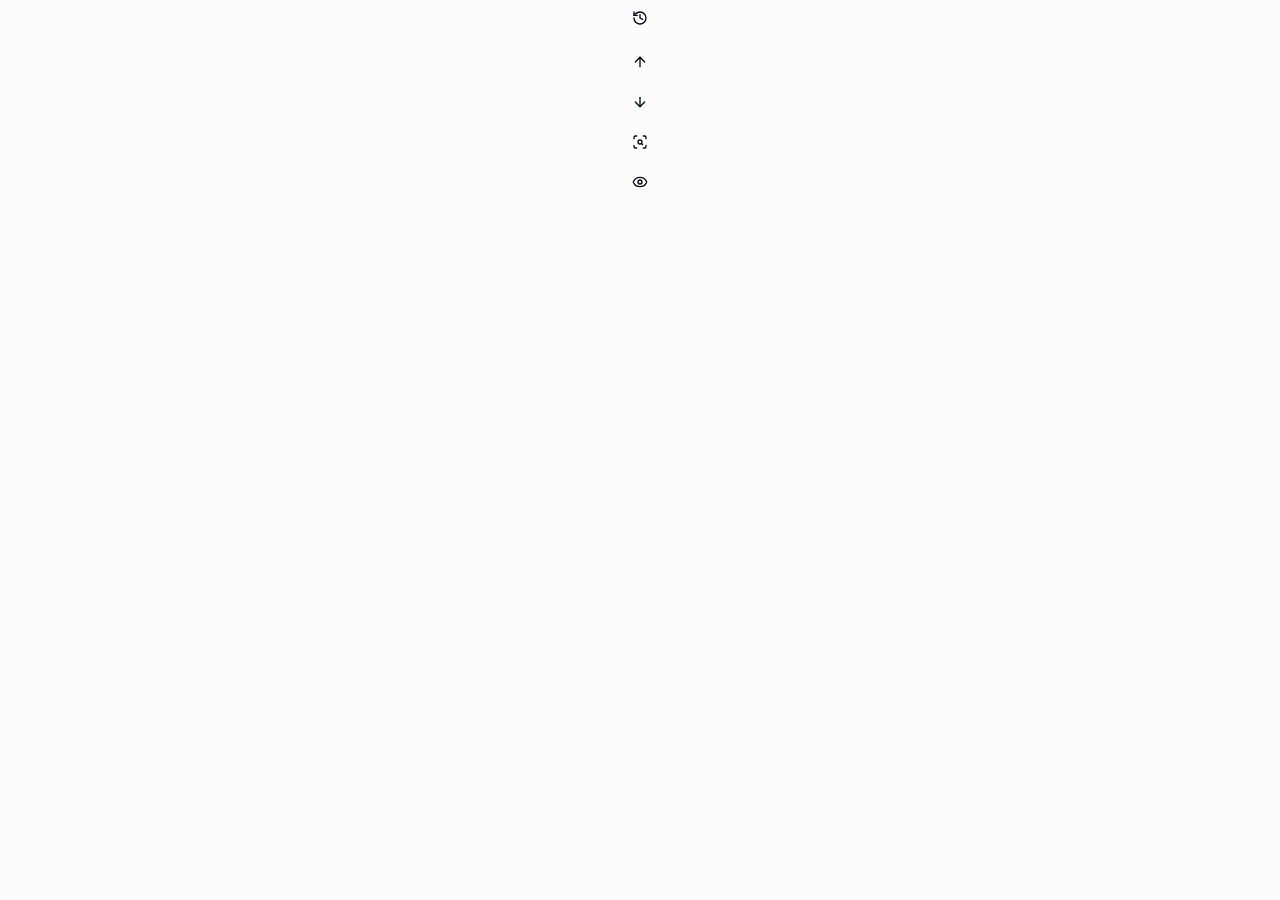
it: colors formatting-only changes in the selected version preview
Click the button named "Version history" at (640, 18), box [622,0,658,36]
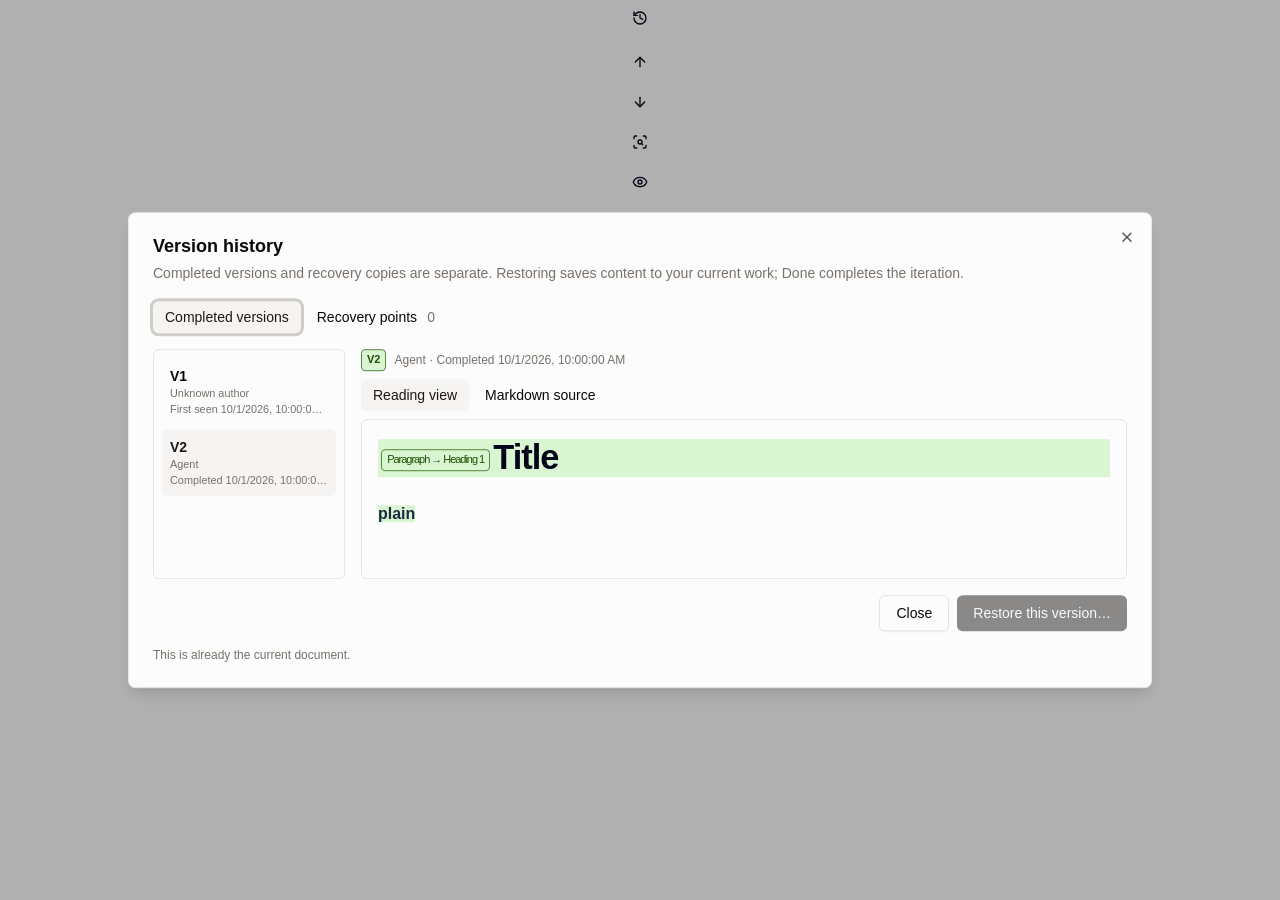
Expected: the text with test id "revision-structure-change" reads "Paragraph → Heading 1", [387,453,484,465]
